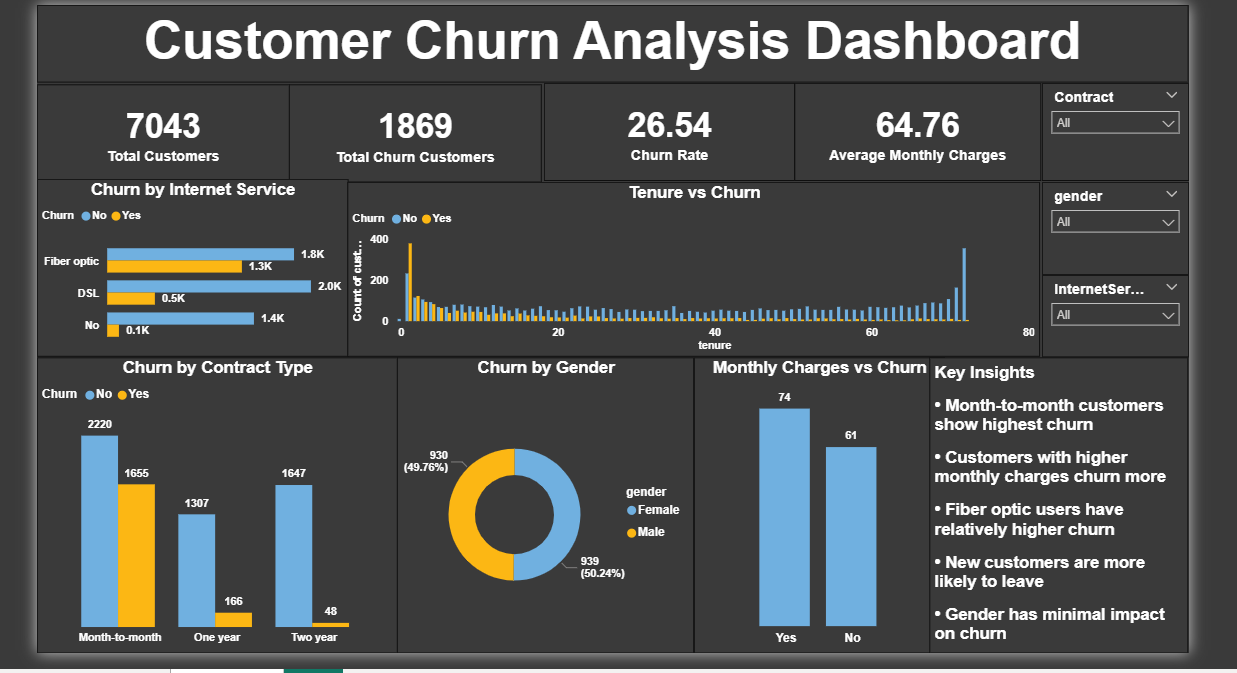

The dashboard page shown, as its layout file describes it:
{"tool":"powerbi","page":{"name":"Page 1","canvas":[1280,720],"ordinal":0},"visuals":[{"type":"shape","box":[16,96,320,80],"z":0},{"type":"shape","box":[688,96,272,80],"z":1000},{"type":"card","fields":{"Values":["Count(WA_Fn-UseC_-Telco-Customer-Churn.customerID)"]},"box":[16,96,320,80],"z":2000},{"type":"shape","box":[352,96,320,80],"z":3000},{"type":"card","fields":{"Values":["WA_Fn-UseC_-Telco-Customer-Churn.Total Churn Customers"]},"box":[352,96,320,80],"z":4000},{"type":"card","fields":{"Values":["WA_Fn-UseC_-Telco-Customer-Churn.Churn Rate"]},"box":[688,96,272,80],"z":5000},{"type":"shape","box":[976,96,288,80],"z":6000},{"type":"card","fields":{"Values":["Avg(WA_Fn-UseC_-Telco-Customer-Churn.MonthlyCharges)"]},"box":[976,96,288,80],"z":7000},{"type":"shape","box":[672,464,304,240],"z":8000},{"type":"clusteredColumnChart","title":"Churn by Contract Type","fields":{"Category":["WA_Fn-UseC_-Telco-Customer-Churn.Contract"],"Y":["Count(WA_Fn-UseC_-Telco-Customer-Churn.customerID)"],"Series":["WA_Fn-UseC_-Telco-Customer-Churn.Churn"]},"box":[672,464,304,240],"z":9000},{"type":"shape","box":[16,464,320,240],"z":10000},{"type":"donutChart","title":"Churn by Gender","fields":{"Category":["WA_Fn-UseC_-Telco-Customer-Churn.gender"],"Y":["Count(WA_Fn-UseC_-Telco-Customer-Churn.customerID)"]},"box":[16,464,320,240],"z":11000},{"type":"shape","box":[16,197,320,240],"z":12000},{"type":"clusteredBarChart","title":"Churn by Internet Service","fields":{"Category":["WA_Fn-UseC_-Telco-Customer-Churn.InternetService"],"Y":["Count(WA_Fn-UseC_-Telco-Customer-Churn.customerID)"],"Series":["WA_Fn-UseC_-Telco-Customer-Churn.Churn"]},"box":[16,198,320,238],"z":13000},{"type":"shape","box":[352,464,304,240],"z":13500},{"type":"clusteredColumnChart","title":"Monthly Charges vs Churn","fields":{"Category":["WA_Fn-UseC_-Telco-Customer-Churn.Churn"],"Y":["Avg(WA_Fn-UseC_-Telco-Customer-Churn.MonthlyCharges)"]},"box":[352,464,304,240],"z":14000},{"type":"shape","box":[352,200,910,240],"z":15000},{"type":"clusteredColumnChart","title":"Tenure vs Churn","fields":{"Category":["WA_Fn-UseC_-Telco-Customer-Churn.tenure"],"Y":["Count(WA_Fn-UseC_-Telco-Customer-Churn.customerID)"],"Series":["WA_Fn-UseC_-Telco-Customer-Churn.Churn"]},"box":[352,200,912,239],"z":16000},{"type":"shape","box":[851,10,208,64],"z":17000},{"type":"slicer","fields":{"Values":["WA_Fn-UseC_-Telco-Customer-Churn.gender"]},"box":[848,10,208,64],"z":18000},{"type":"shape","box":[619,10,224,64],"z":19000},{"type":"slicer","fields":{"Values":["WA_Fn-UseC_-Telco-Customer-Churn.Contract"]},"box":[618,10,224,64],"z":20000},{"type":"shape","box":[1072,10,192,64],"z":21000},{"type":"slicer","fields":{"Values":["WA_Fn-UseC_-Telco-Customer-Churn.InternetService"]},"box":[1075,10,192,64],"z":22000},{"type":"shape","box":[16,10,592,64],"z":23000},{"type":"textbox","box":[16,11,592,64],"z":24000},{"type":"shape","box":[992,464,272,240],"z":24500},{"type":"textbox","box":[992,464,272,240],"z":25000}]}

Visuals, with their boxes on the page's 1280x720 design canvas (x1, y1, x2, y2). These are canvas units, not pixel positions in the 1237x673 screenshot, which may show the page scaled, cropped or inside an application window:
shape: (left=16, top=96, right=336, bottom=176)
shape: (left=688, top=96, right=960, bottom=176)
card - Count(WA_Fn-UseC_-Telco-Customer-Churn.customerID): (left=16, top=96, right=336, bottom=176)
shape: (left=352, top=96, right=672, bottom=176)
card - WA_Fn-UseC_-Telco-Customer-Churn.Total Churn Customers: (left=352, top=96, right=672, bottom=176)
card - WA_Fn-UseC_-Telco-Customer-Churn.Churn Rate: (left=688, top=96, right=960, bottom=176)
shape: (left=976, top=96, right=1264, bottom=176)
card - Avg(WA_Fn-UseC_-Telco-Customer-Churn.MonthlyCharges): (left=976, top=96, right=1264, bottom=176)
shape: (left=672, top=464, right=976, bottom=704)
"Churn by Contract Type" clusteredColumnChart: (left=672, top=464, right=976, bottom=704)
shape: (left=16, top=464, right=336, bottom=704)
"Churn by Gender" donutChart: (left=16, top=464, right=336, bottom=704)
shape: (left=16, top=197, right=336, bottom=437)
"Churn by Internet Service" clusteredBarChart: (left=16, top=198, right=336, bottom=436)
shape: (left=352, top=464, right=656, bottom=704)
"Monthly Charges vs Churn" clusteredColumnChart: (left=352, top=464, right=656, bottom=704)
shape: (left=352, top=200, right=1262, bottom=440)
"Tenure vs Churn" clusteredColumnChart: (left=352, top=200, right=1264, bottom=439)
shape: (left=851, top=10, right=1059, bottom=74)
slicer - WA_Fn-UseC_-Telco-Customer-Churn.gender: (left=848, top=10, right=1056, bottom=74)
shape: (left=619, top=10, right=843, bottom=74)
slicer - WA_Fn-UseC_-Telco-Customer-Churn.Contract: (left=618, top=10, right=842, bottom=74)
shape: (left=1072, top=10, right=1264, bottom=74)
slicer - WA_Fn-UseC_-Telco-Customer-Churn.InternetService: (left=1075, top=10, right=1267, bottom=74)
shape: (left=16, top=10, right=608, bottom=74)
textbox: (left=16, top=11, right=608, bottom=75)
shape: (left=992, top=464, right=1264, bottom=704)
textbox: (left=992, top=464, right=1264, bottom=704)
